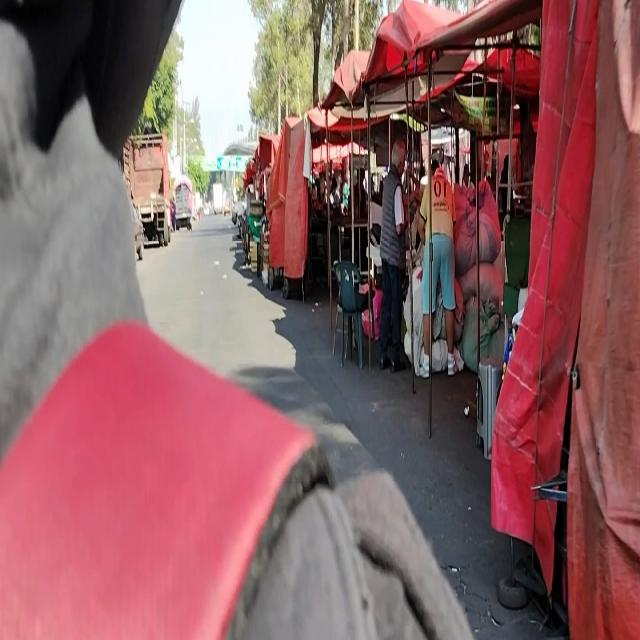adult: (419, 158, 457, 374), (378, 139, 407, 372)
